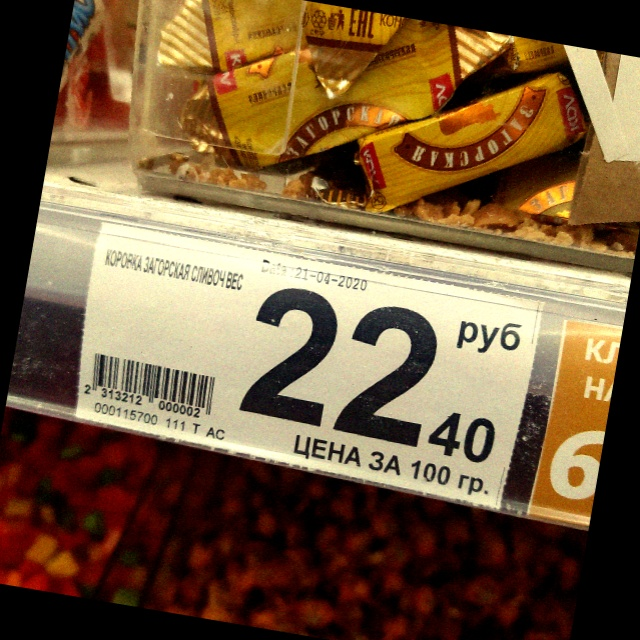barcode: (81, 349, 219, 420)
name: (102, 245, 247, 299)
price: (237, 286, 498, 468)
price_tag: (71, 220, 537, 515)
